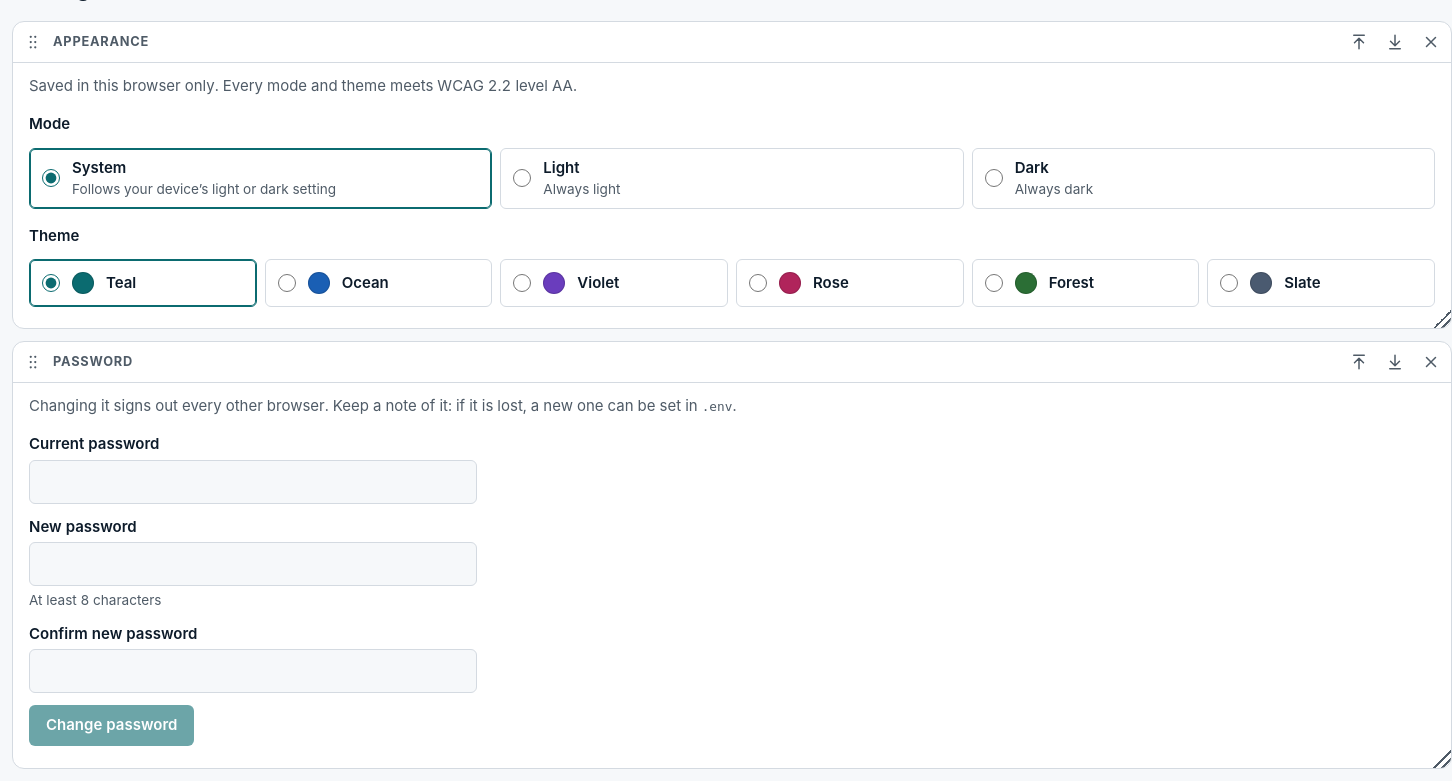
Password › shows why a change was refused
The width and height of the screenshot is (1452, 781).
Type "wrong" into the password field labelled "Current password".
click(253, 482); type("wrong")  # box [29,460,477,504]
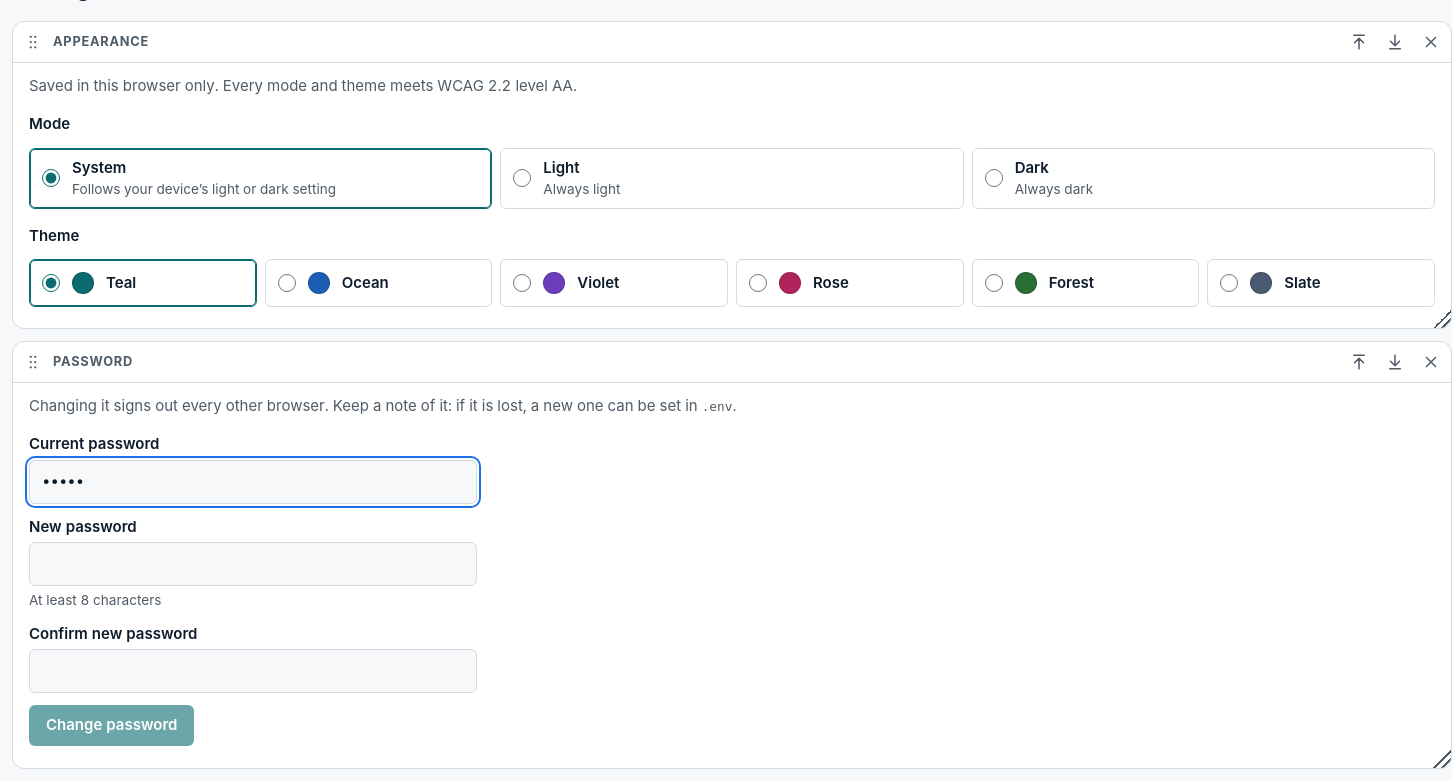
Type "new password" into the password field labelled "New password".
click(253, 564); type("new password")  # box [29,542,477,586]
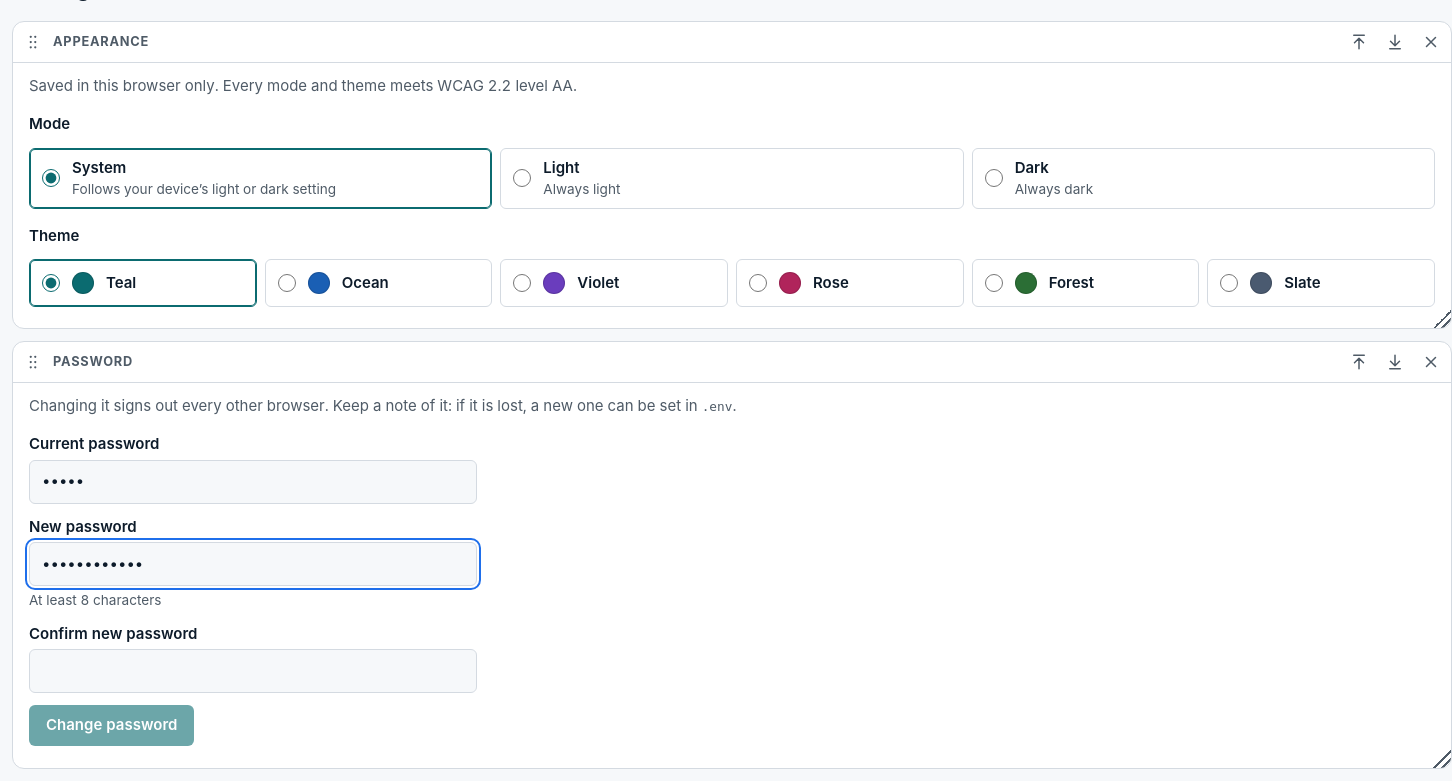
Type "new password" into the password field labelled "Confirm new password".
click(253, 671); type("new password")  # box [29,649,477,693]
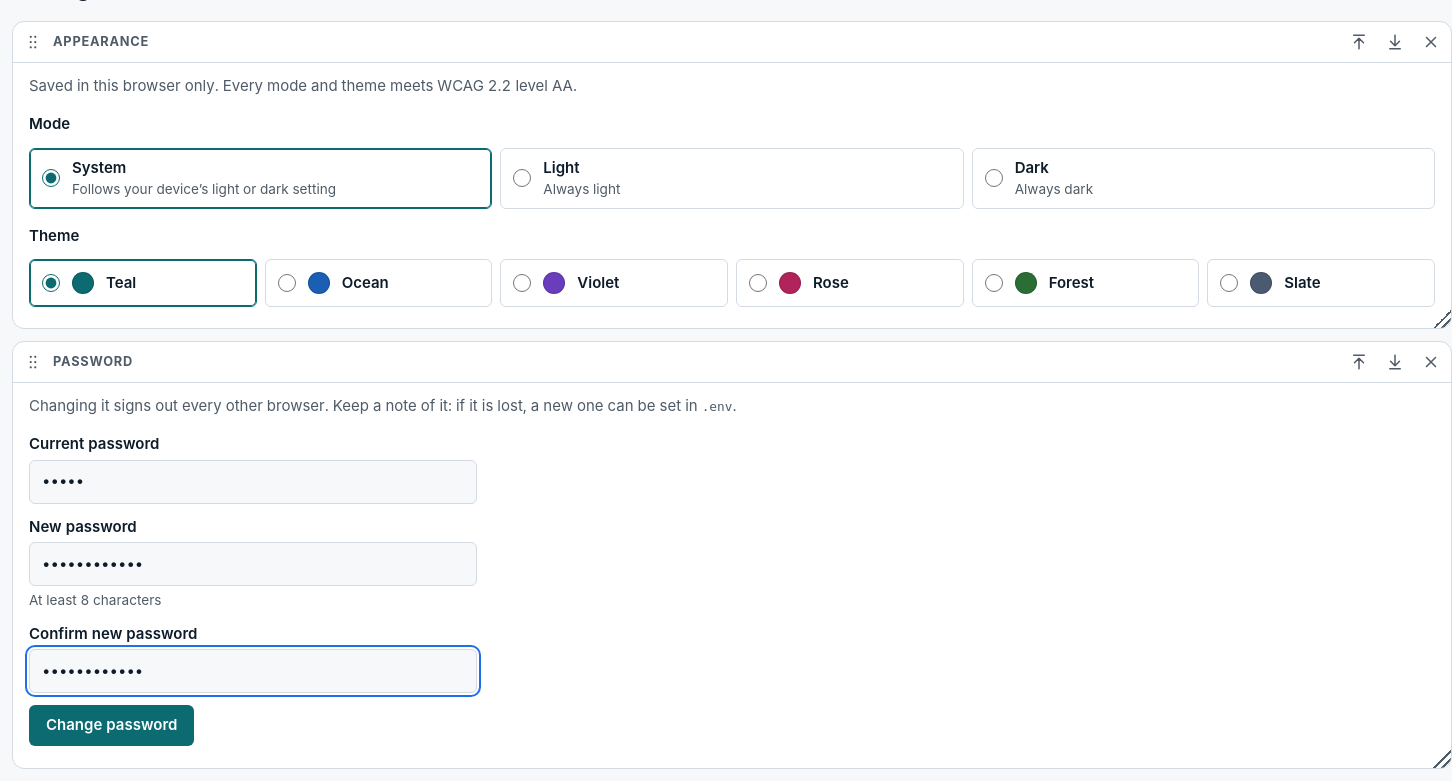
Click the button "Change password".
click(112, 725)  # box [29,705,194,746]
(page scrolled)
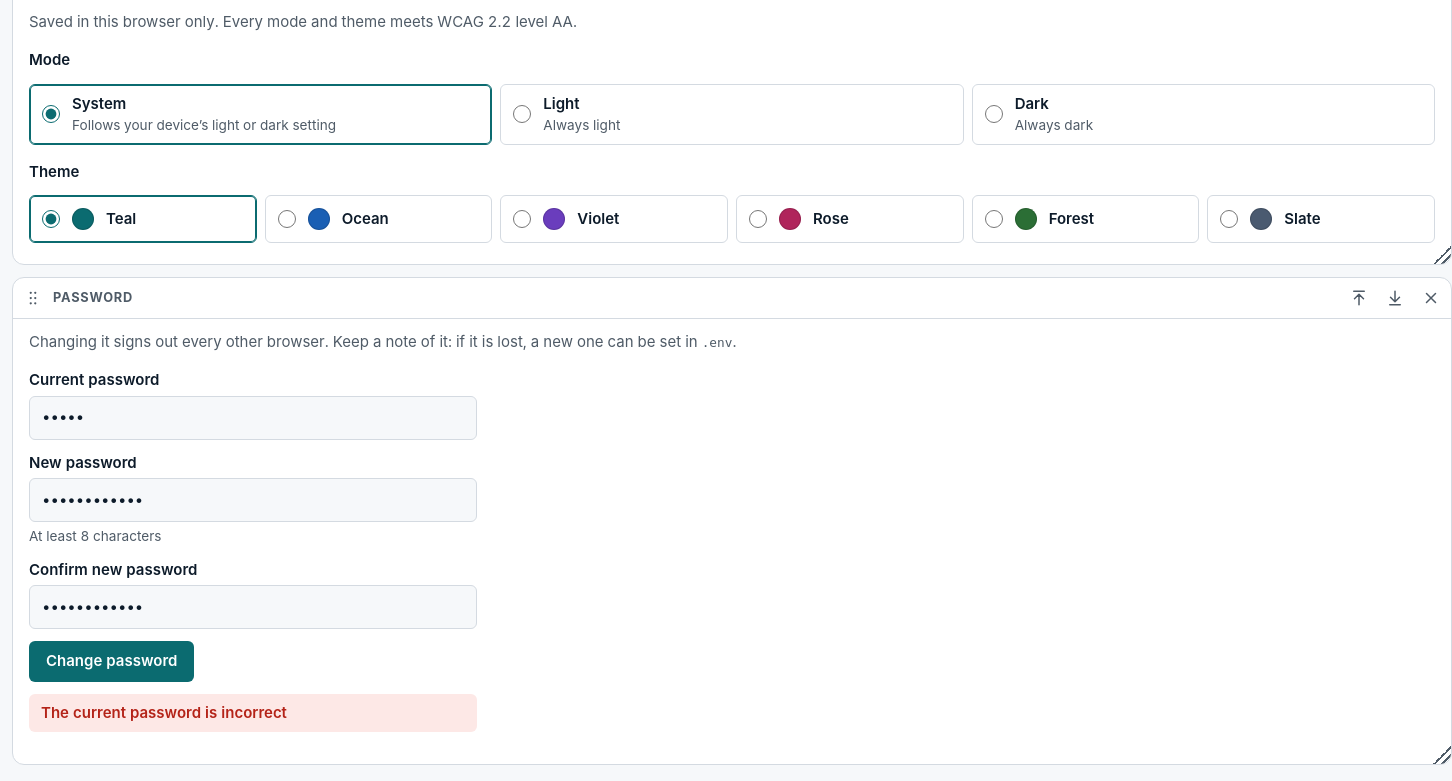
Now the message reads "The current password is incorrect", box [41,702,287,722]
